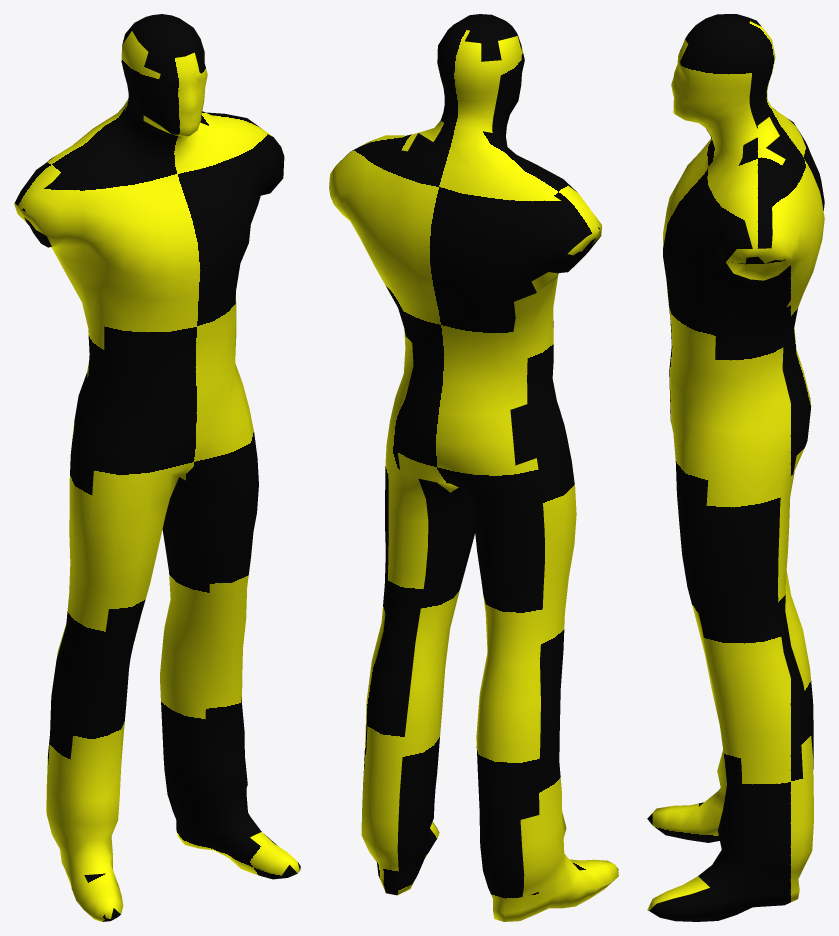
Rendered from hitbox_token.obj.
The picture shows the model from 3 angles, left to right: view 1: azimuth 30°, elevation 25°; view 2: azimuth 150°, elevation 25°; view 3: azimuth 270°, elevation 25°; orthographic projection.
Parts seen in each view (by area): view 1: Mesh; view 2: Mesh; view 3: Mesh.
Part boxes in pixels (<box>): Mesh: <box>14,14,300,921</box>; Mesh: <box>329,14,618,921</box>; Mesh: <box>647,14,824,921</box>.
Size of the model in its own units: 12.66 by 40.08 by 7.52.
1 material, 1 textured.
